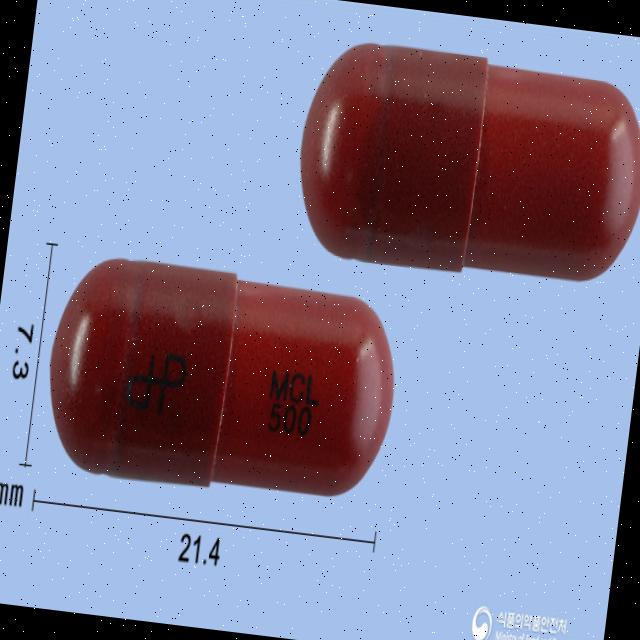Cephamethyl Cap: (34, 240, 411, 512)
